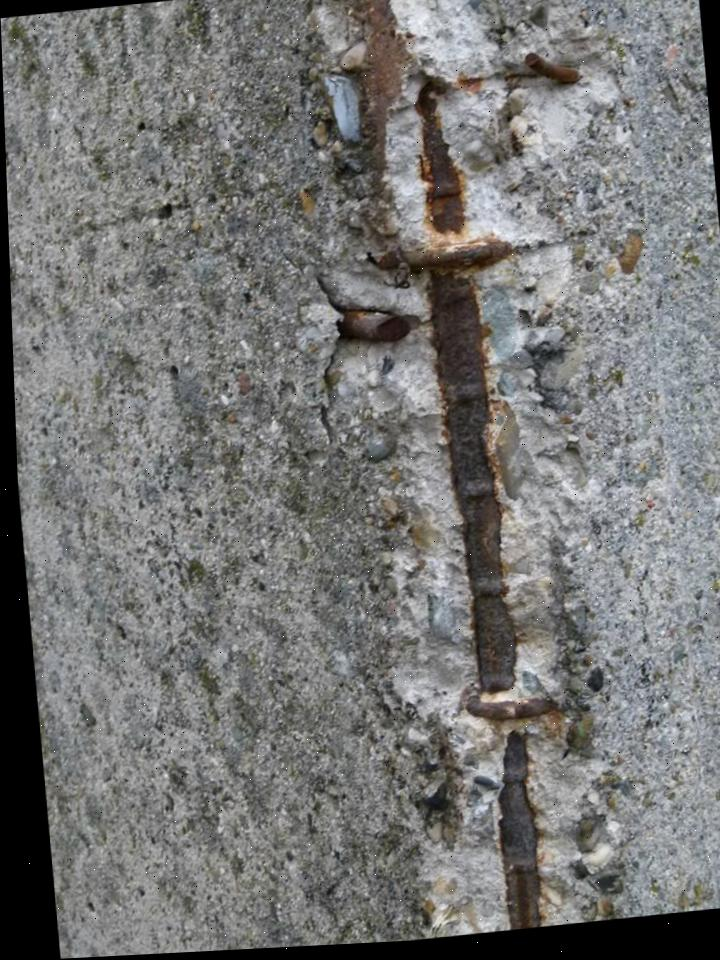exposed_rebar: (430, 271, 516, 691), (498, 732, 540, 929), (416, 83, 464, 232), (369, 236, 512, 271), (465, 692, 556, 721)
spalling: (313, 0, 638, 938)
